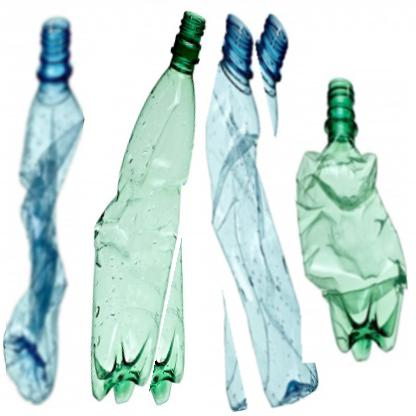plastic-bottles: (80, 5, 207, 413), (188, 6, 310, 411), (296, 66, 410, 365), (7, 15, 85, 408)
